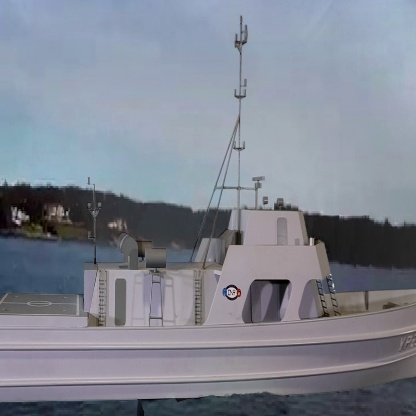YP689: (0, 16, 416, 400)
